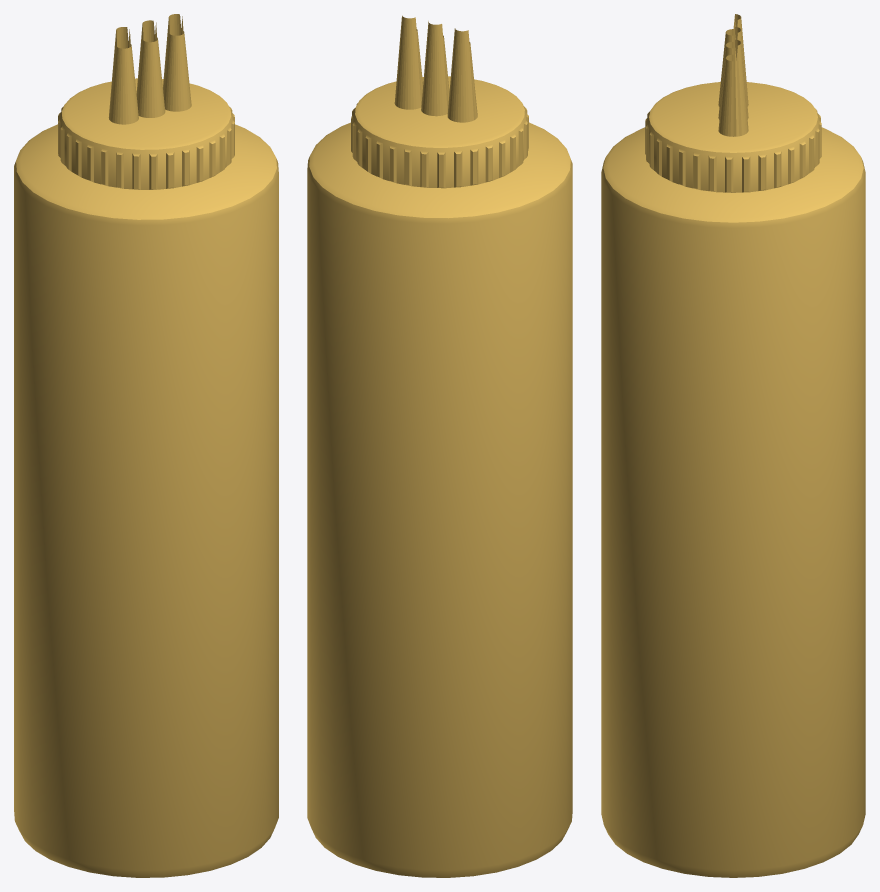
File: Sauce Bottle.fbx
The picture shows the model from 3 angles, left to right: view 1: azimuth 30°, elevation 25°; view 2: azimuth 150°, elevation 25°; view 3: azimuth 270°, elevation 25°; orthographic projection.
Visible parts, largest first — view 1: 圆环.001; view 2: 圆环.001; view 3: 圆环.001.
Part boxes in pixels (box(x1,y1,x2,y2)): 圆环.001: box(14, 14, 278, 877); 圆环.001: box(307, 15, 572, 877); 圆环.001: box(601, 14, 865, 877).
Size of the model in its own units: 8.68 by 28.98 by 8.68.
